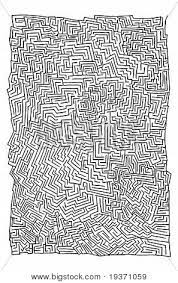maze: (7, 12, 171, 257)
